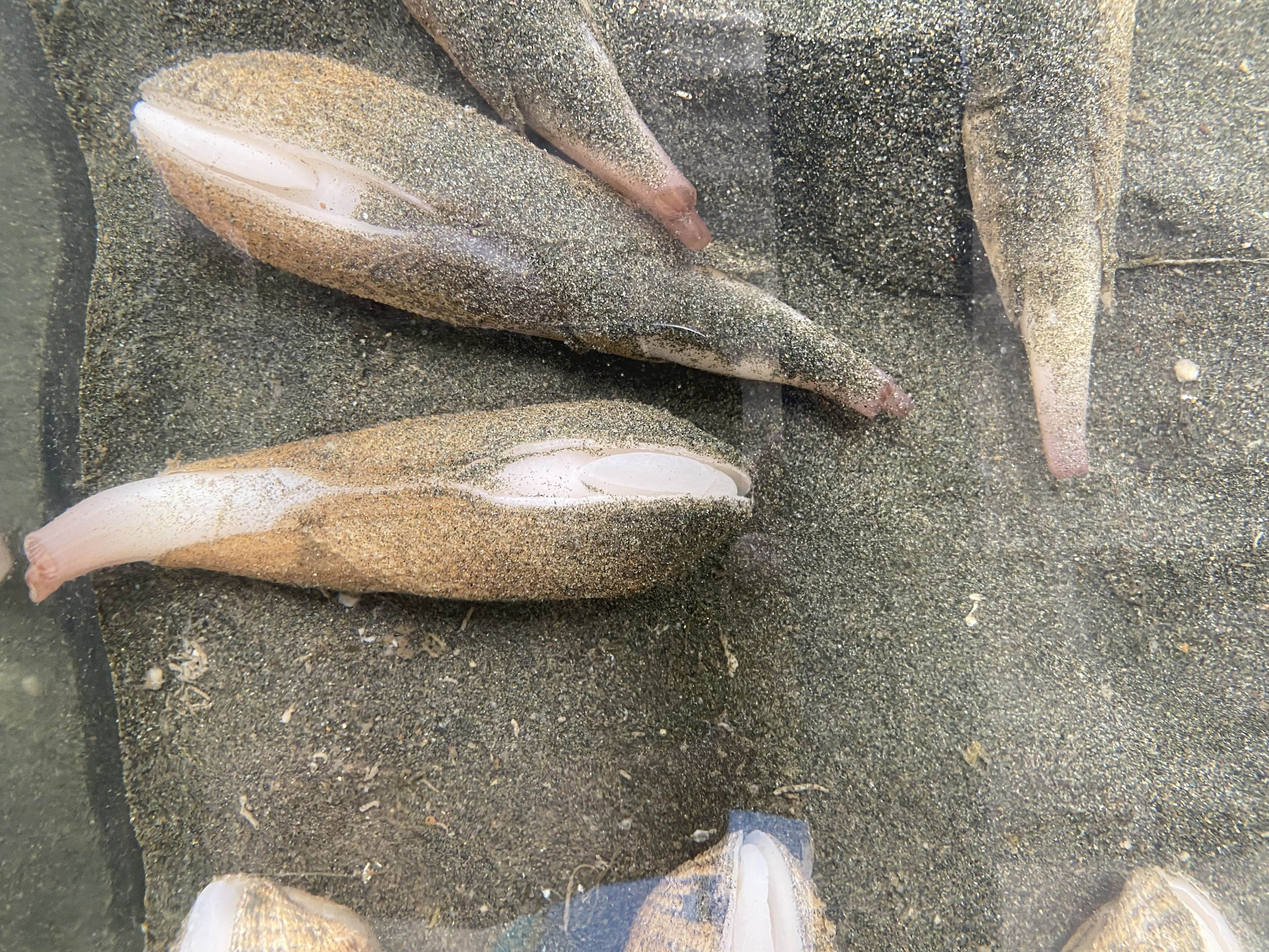Healthy: (143, 51, 910, 416), (24, 401, 751, 603), (962, 0, 1137, 479), (405, 0, 710, 249)
